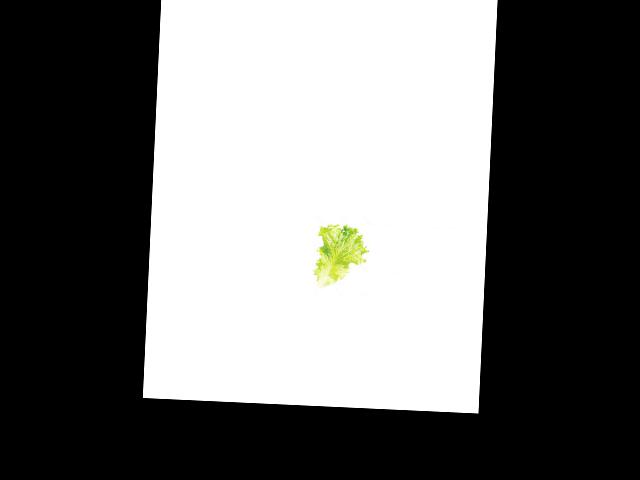lettuce: (315, 223, 369, 290)
